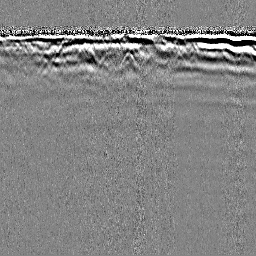cavity: (118, 49, 138, 70)
